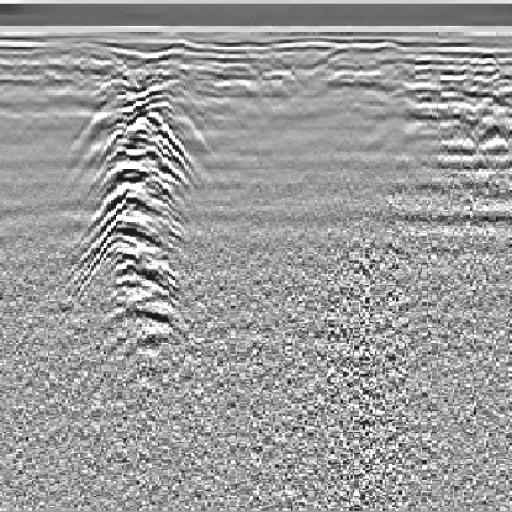metalic: (60, 56, 207, 375)
